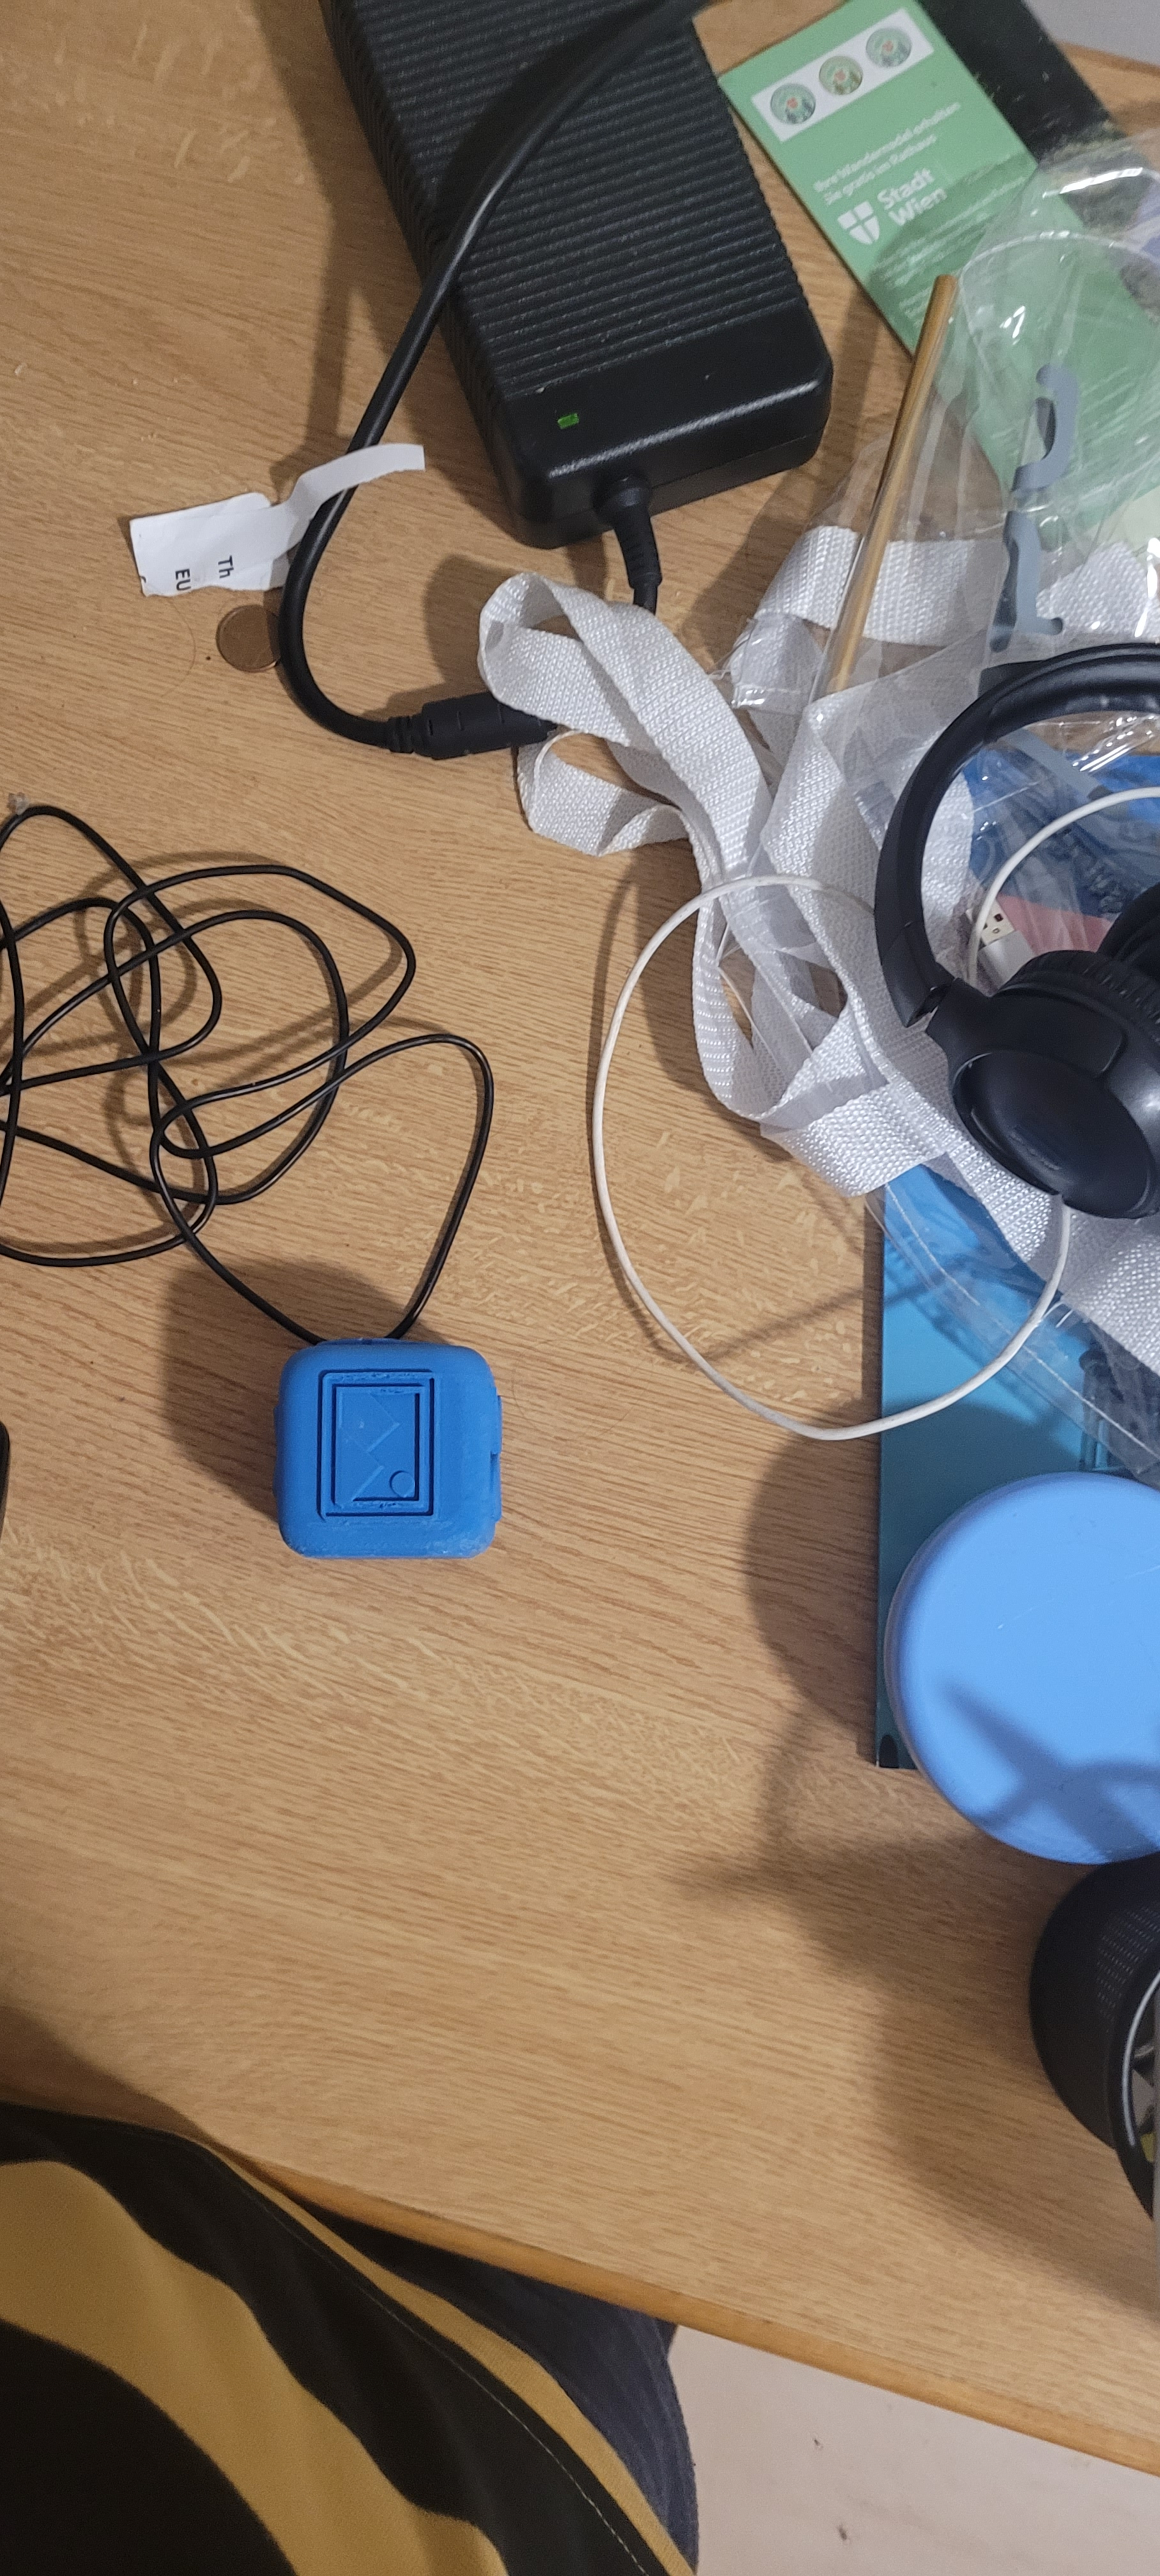Story: (288, 1344, 463, 1549)
